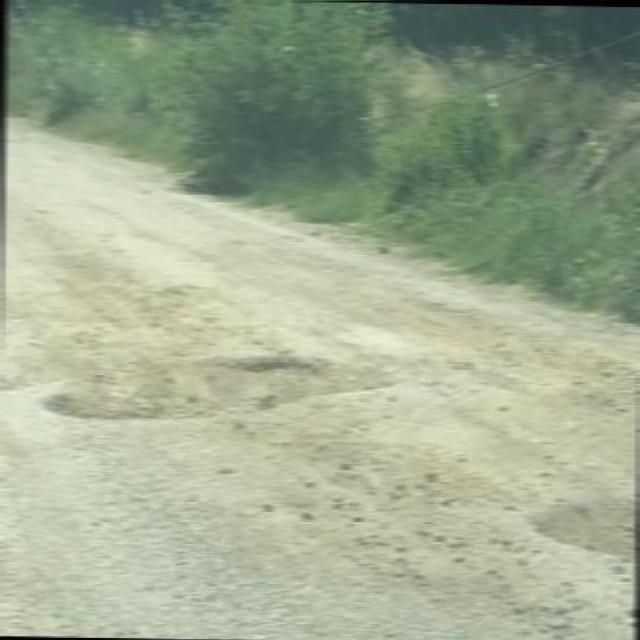Pothole: (39, 336, 393, 436), (512, 472, 640, 590)
